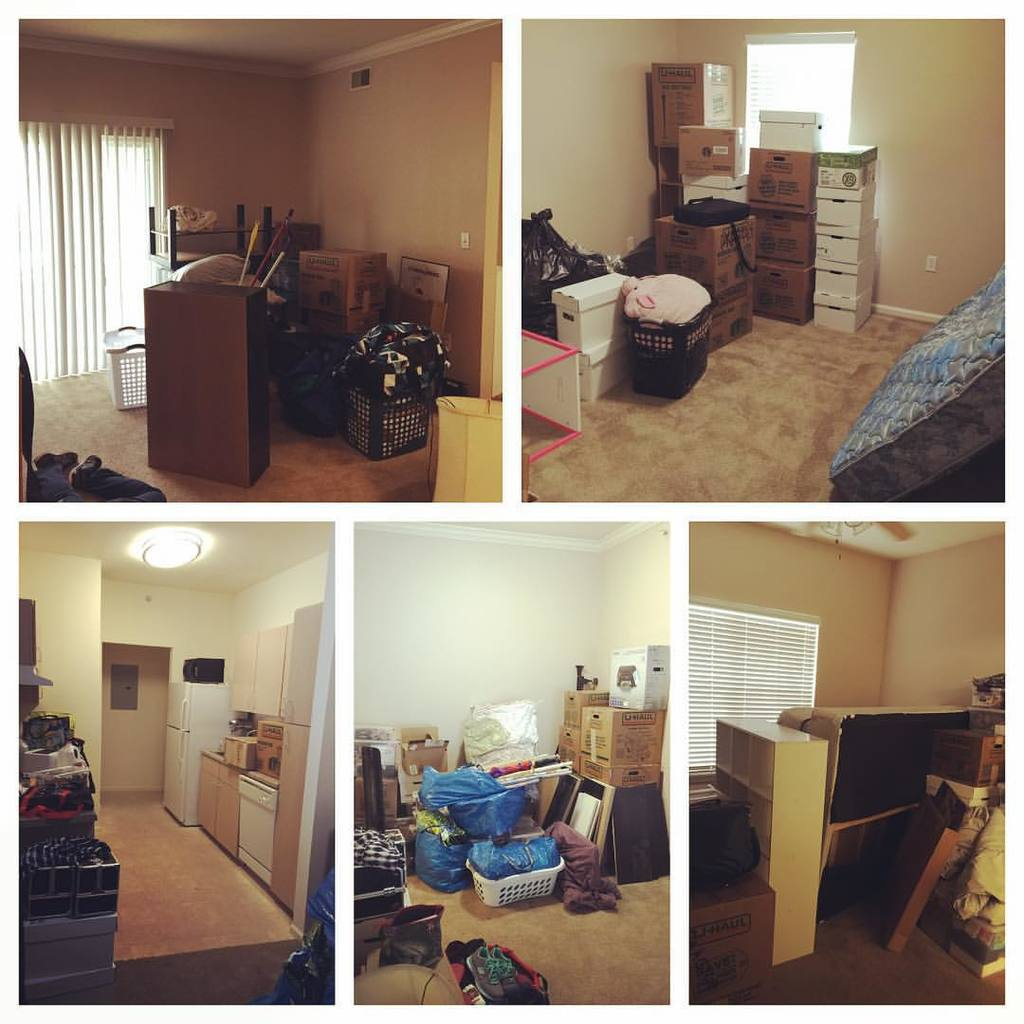refrigerator door: (281, 738, 298, 900), (162, 730, 189, 814), (292, 617, 313, 718), (169, 687, 191, 720)
